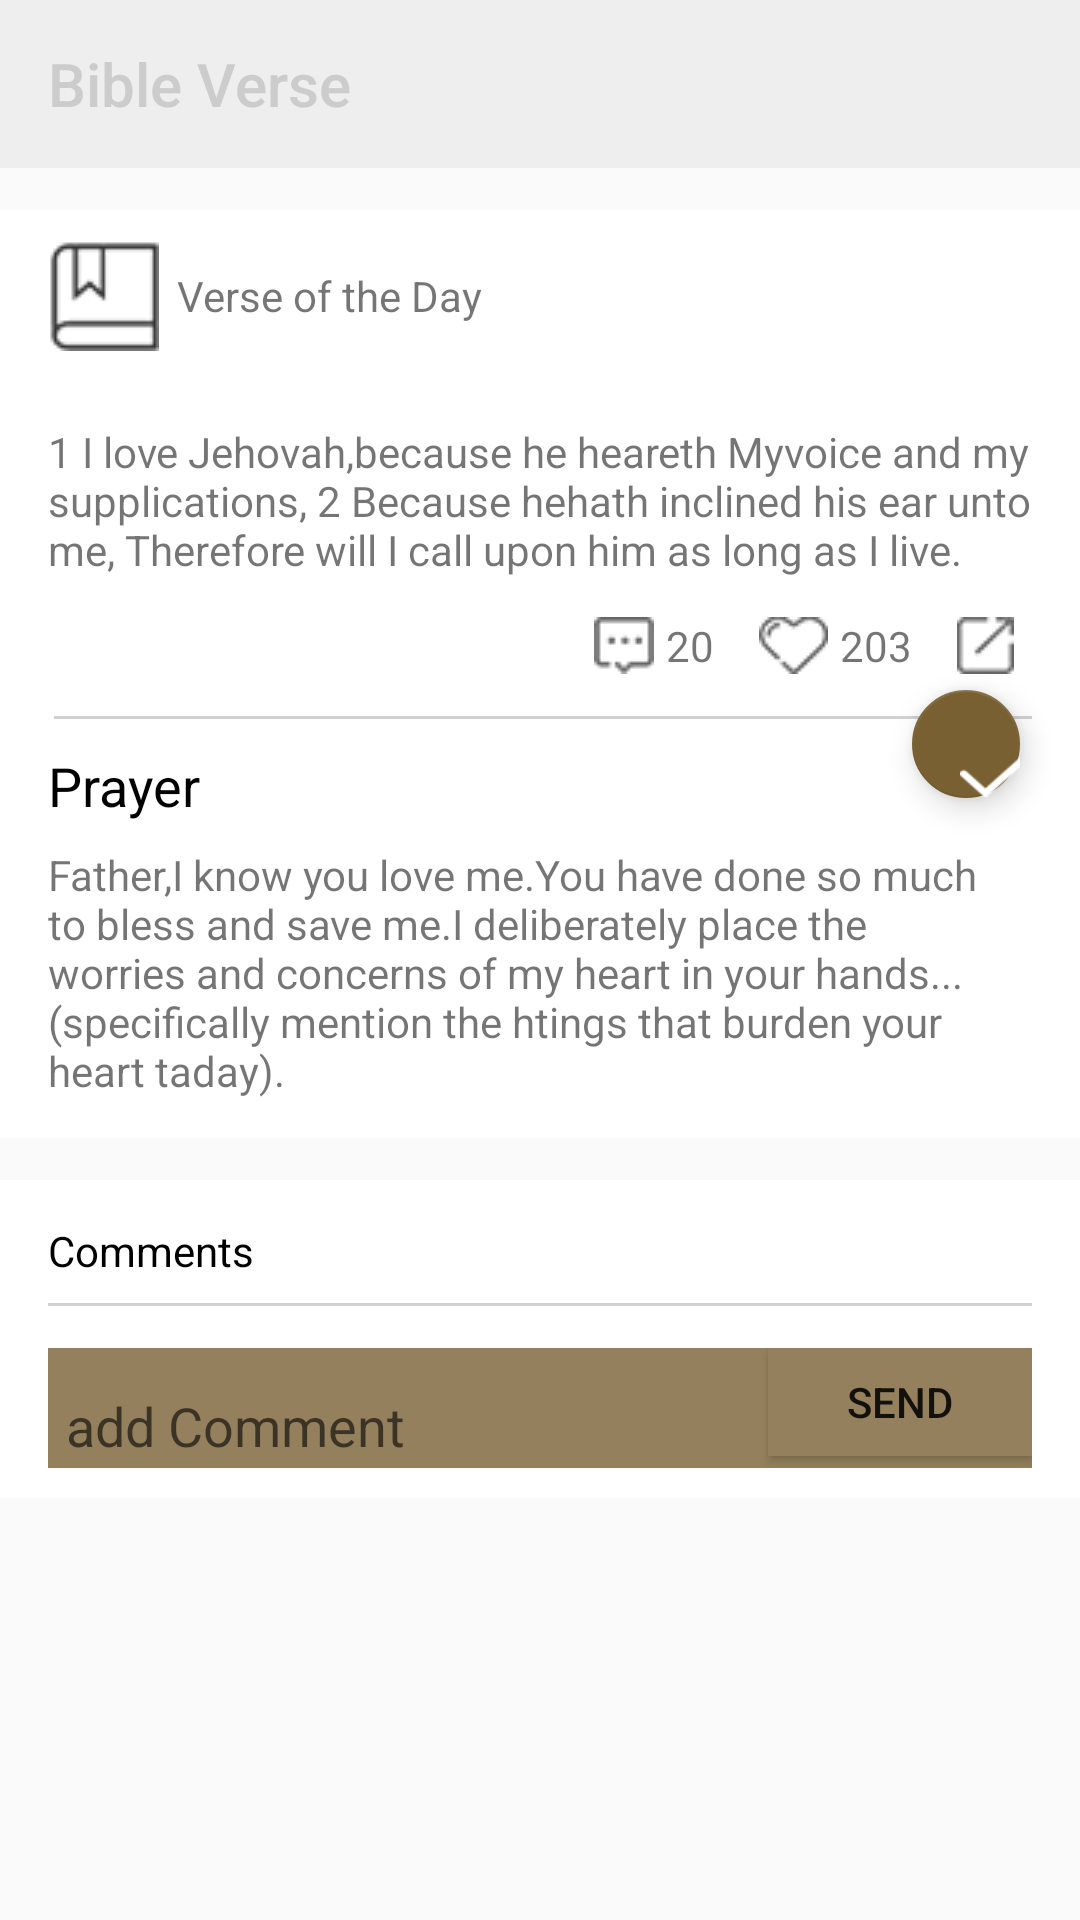

Where to tap for icons on this 1080*1920 app screen, as [x,y]:
checkmark: [966,744]
